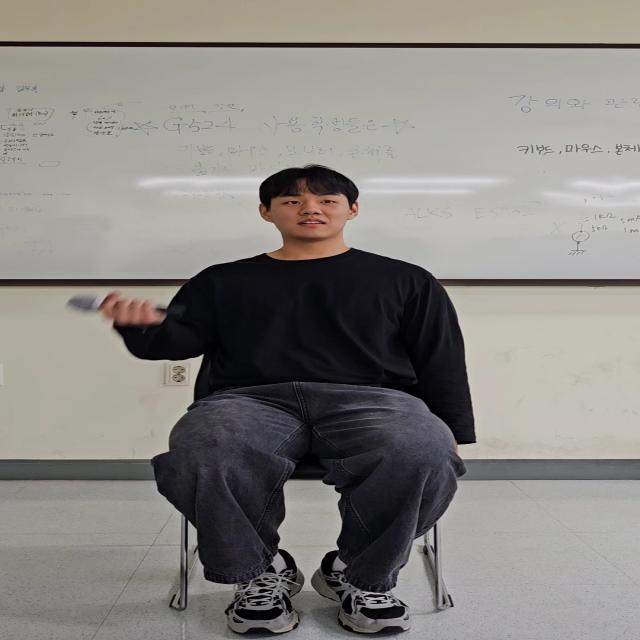curl: (95, 257, 244, 365)
